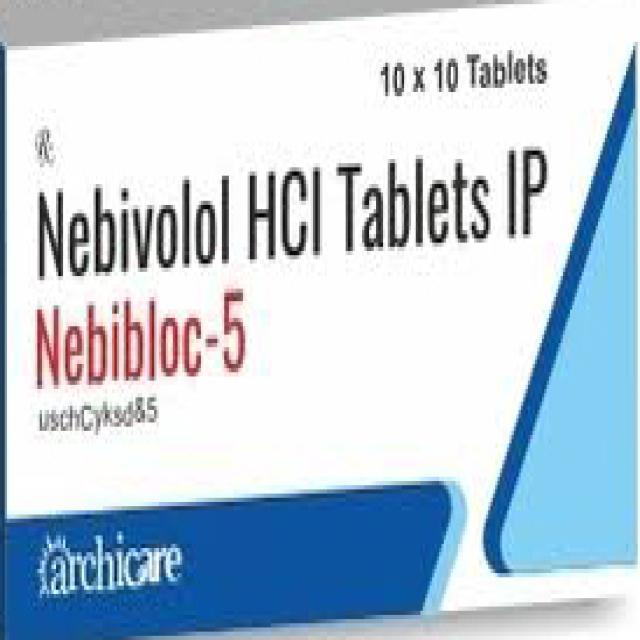drug-name: (32, 282, 248, 392)
